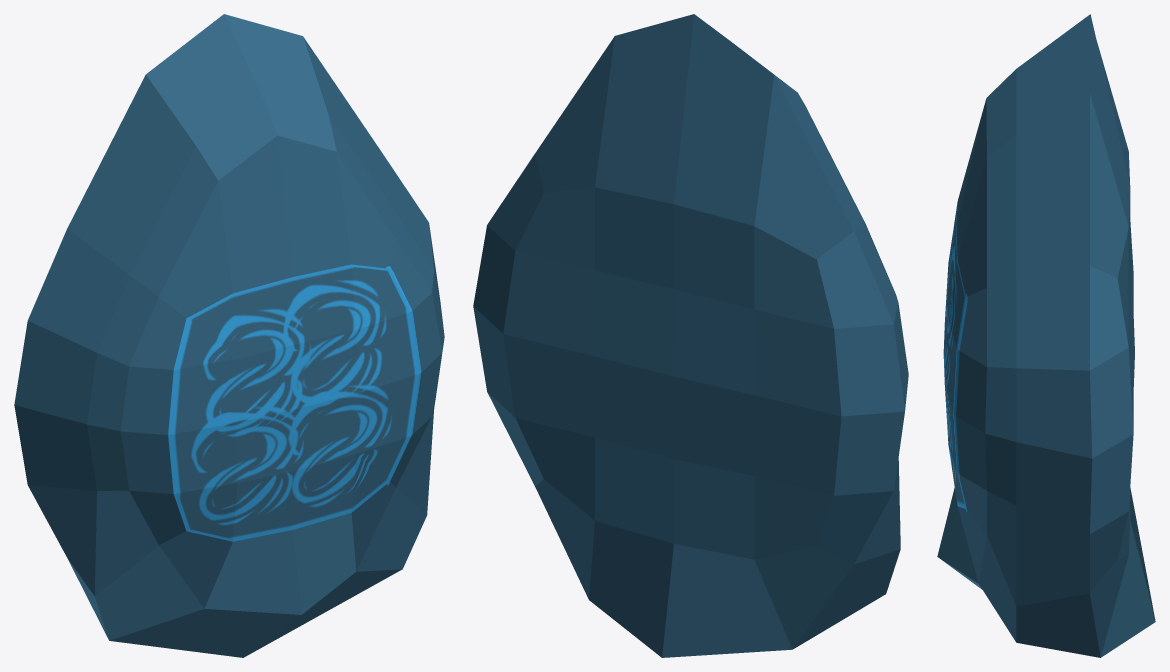
File: A3_LoreRune.fbx
3 renders of one model, left to right at view 1: azimuth 30°, elevation 25°; view 2: azimuth 150°, elevation 25°; view 3: azimuth 270°, elevation 25°, orthographic.
Parts seen in each view (by area): view 1: A3_LoreRune; view 2: A3_LoreRune; view 3: A3_LoreRune.
Boxes of the visible parts, x1=… form: A3_LoreRune: x1=14, y1=14, x2=444, y2=657; A3_LoreRune: x1=473, y1=14, x2=908, y2=657; A3_LoreRune: x1=937, y1=14, x2=1155, y2=657.
Size of the model in its own units: 165 by 233 by 73.53.
Materials: 1 (1 with a texture image).
